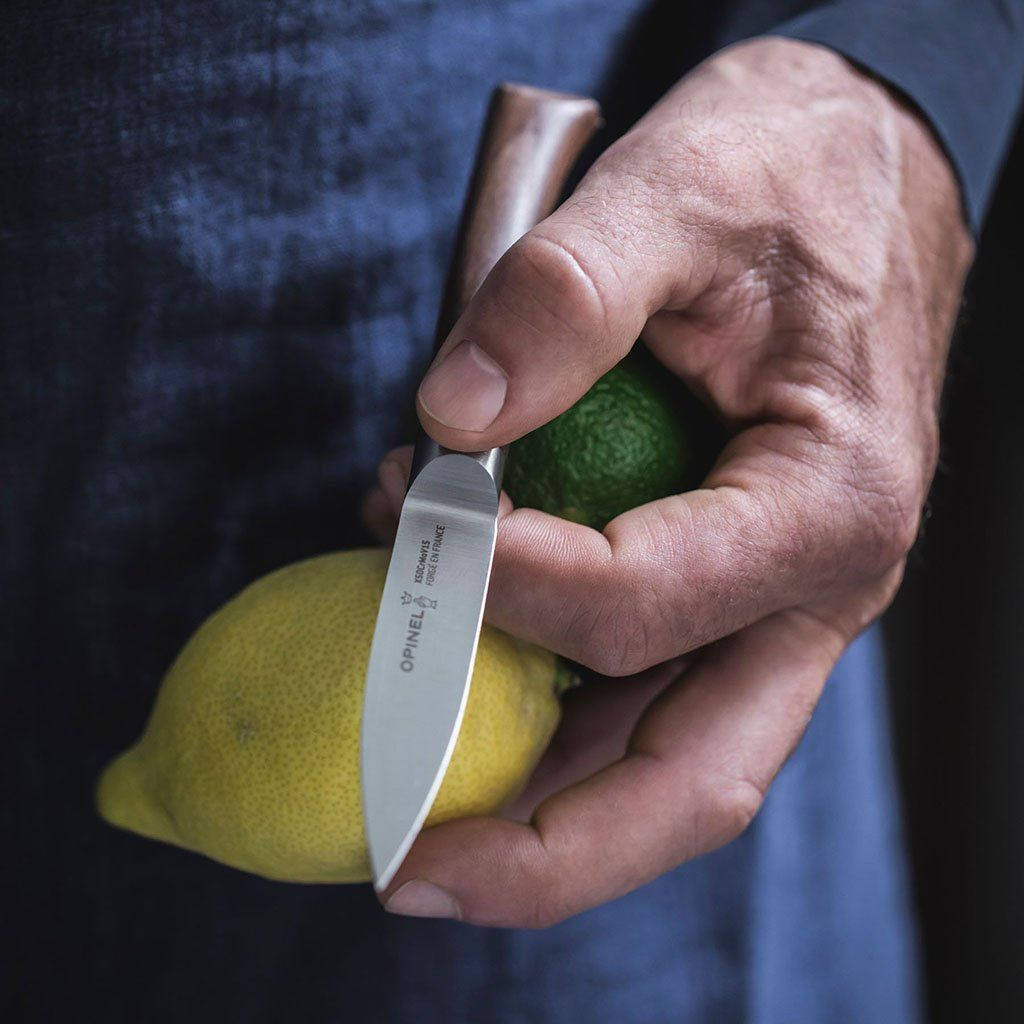knife: (350, 68, 611, 898)
